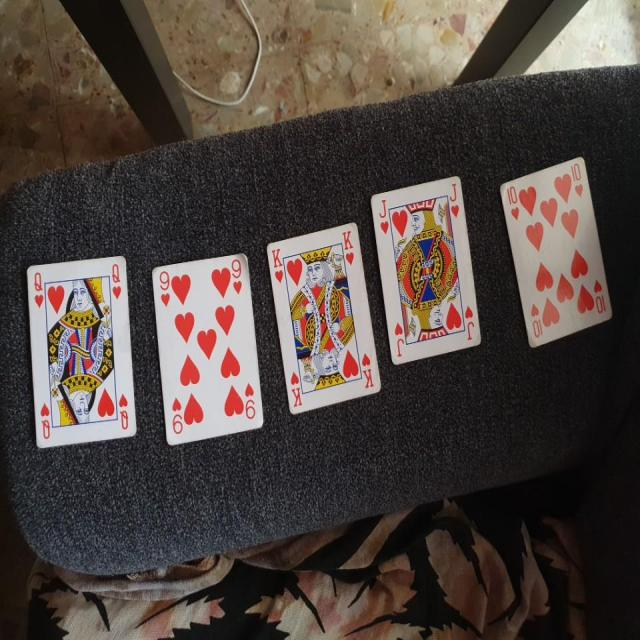10 Hearts: (499, 154, 618, 352)
9 Hearts: (146, 247, 271, 453)
J Hearts: (368, 171, 485, 369)
K Hearts: (263, 215, 386, 426)
Q Hearts: (20, 246, 142, 454)
